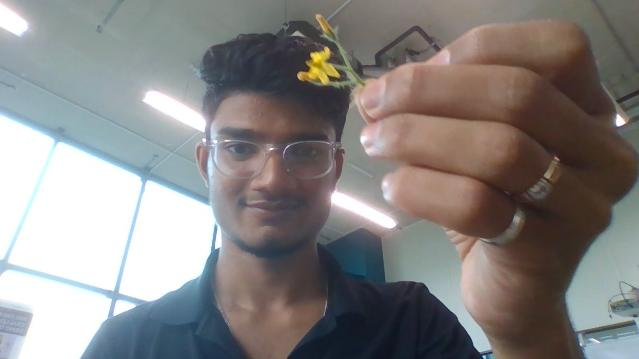Anthesis: (298, 47, 342, 87), (315, 14, 335, 38), (310, 47, 333, 65)
